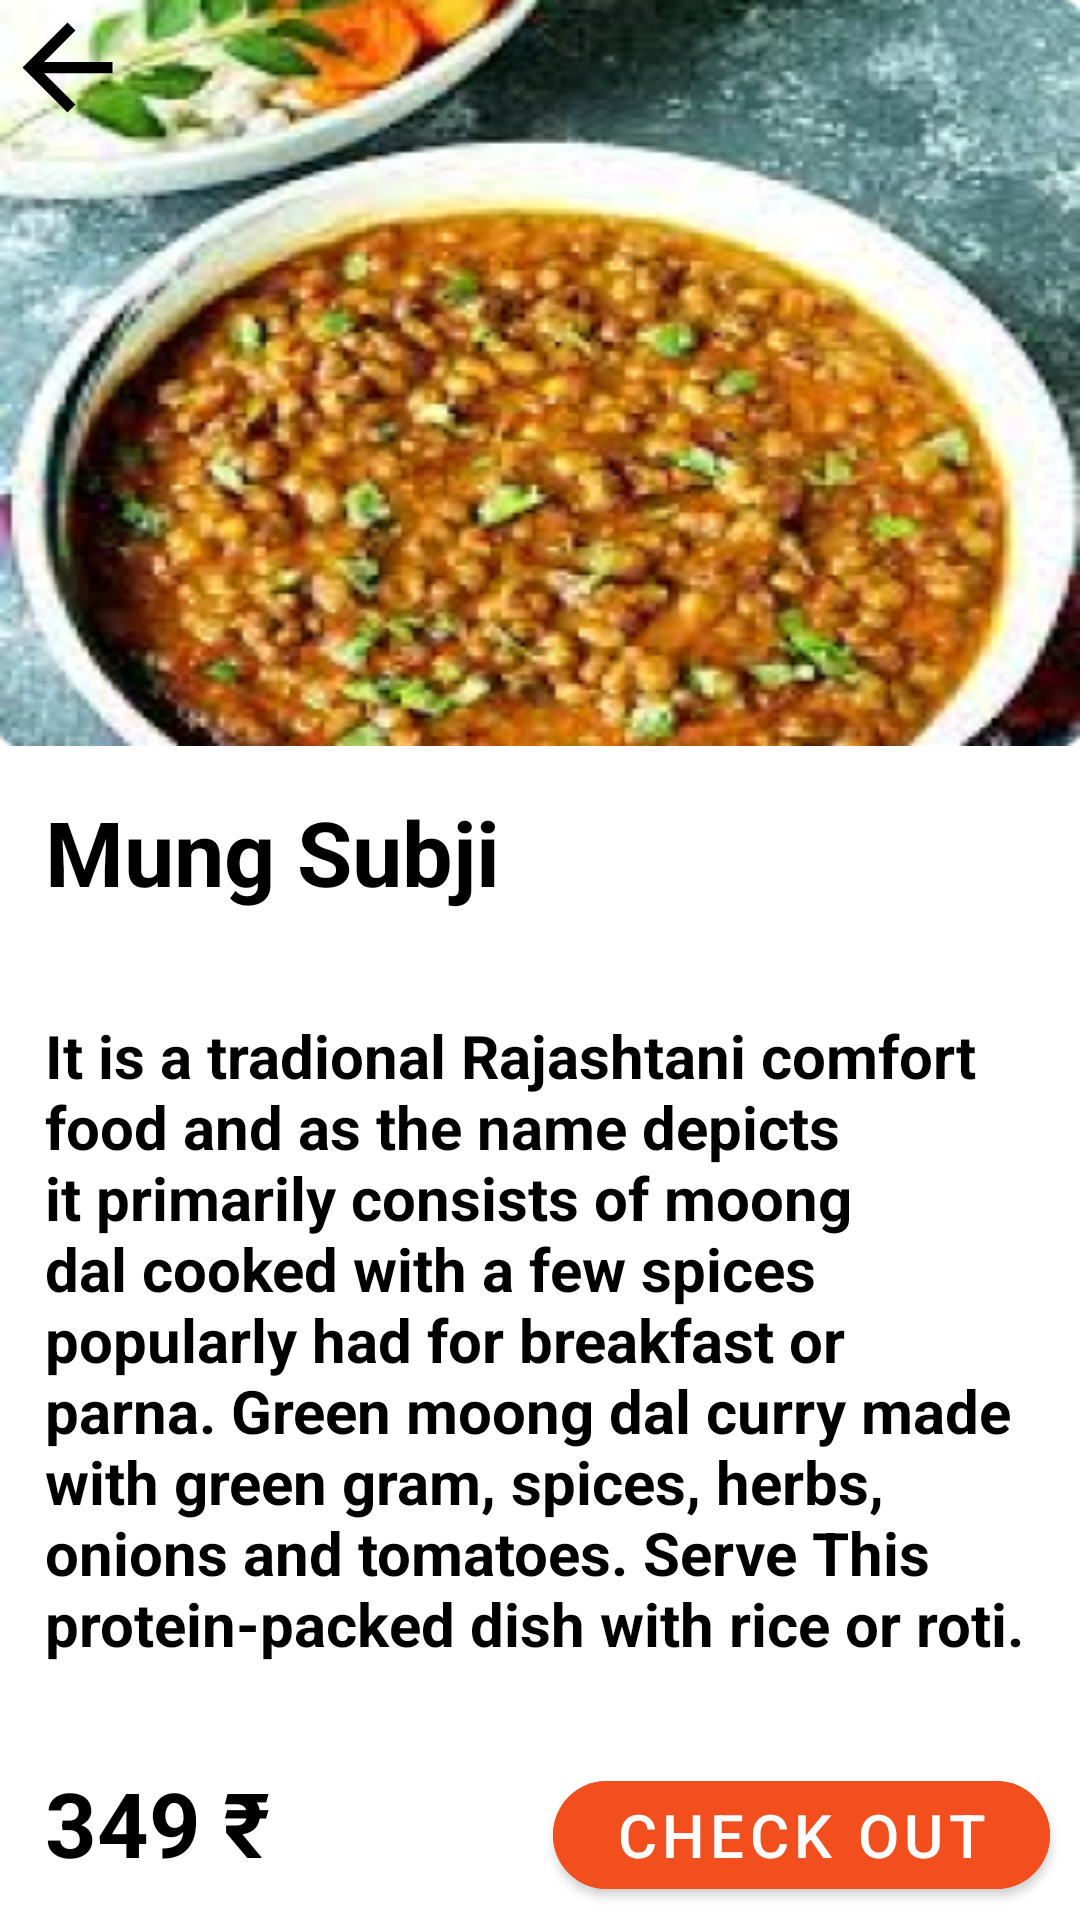

Named icons in this screenshot (1080 x 1920) and their centers, point (x, y):
back: point (67, 67)
